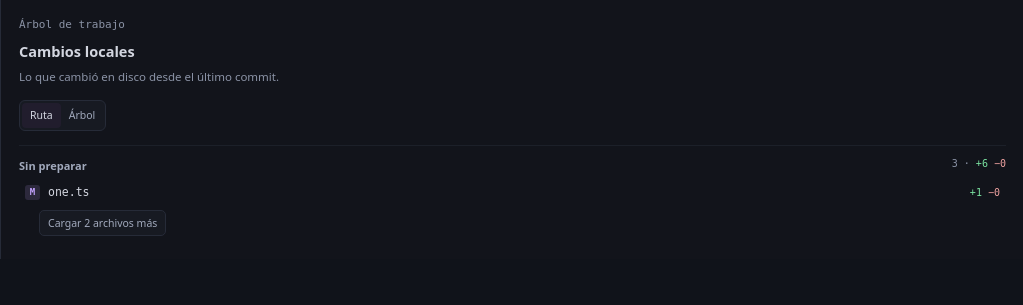
Test: WorkingTreeDetailPanel › when there are more files than one page › says so and starts over when the changes moved on
The image size is (1023, 305).
Click the button "Cargar 2 archivos más" at x=103, y=223, box top-left (39, 210), bottom-right (166, 236)
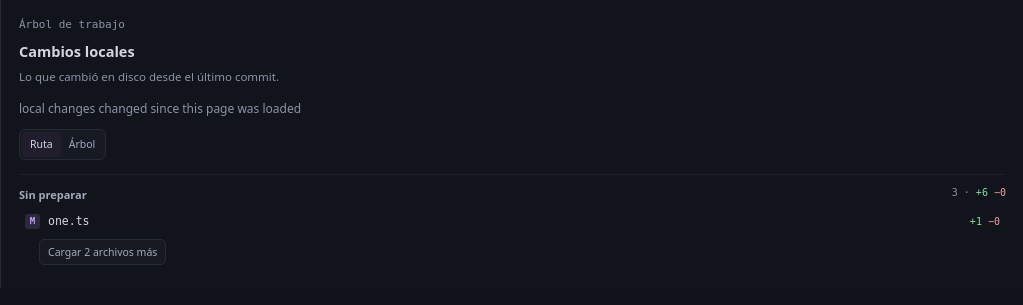
Now the message shows "changed since this page was loaded", box top-left (19, 100), bottom-right (301, 117)
